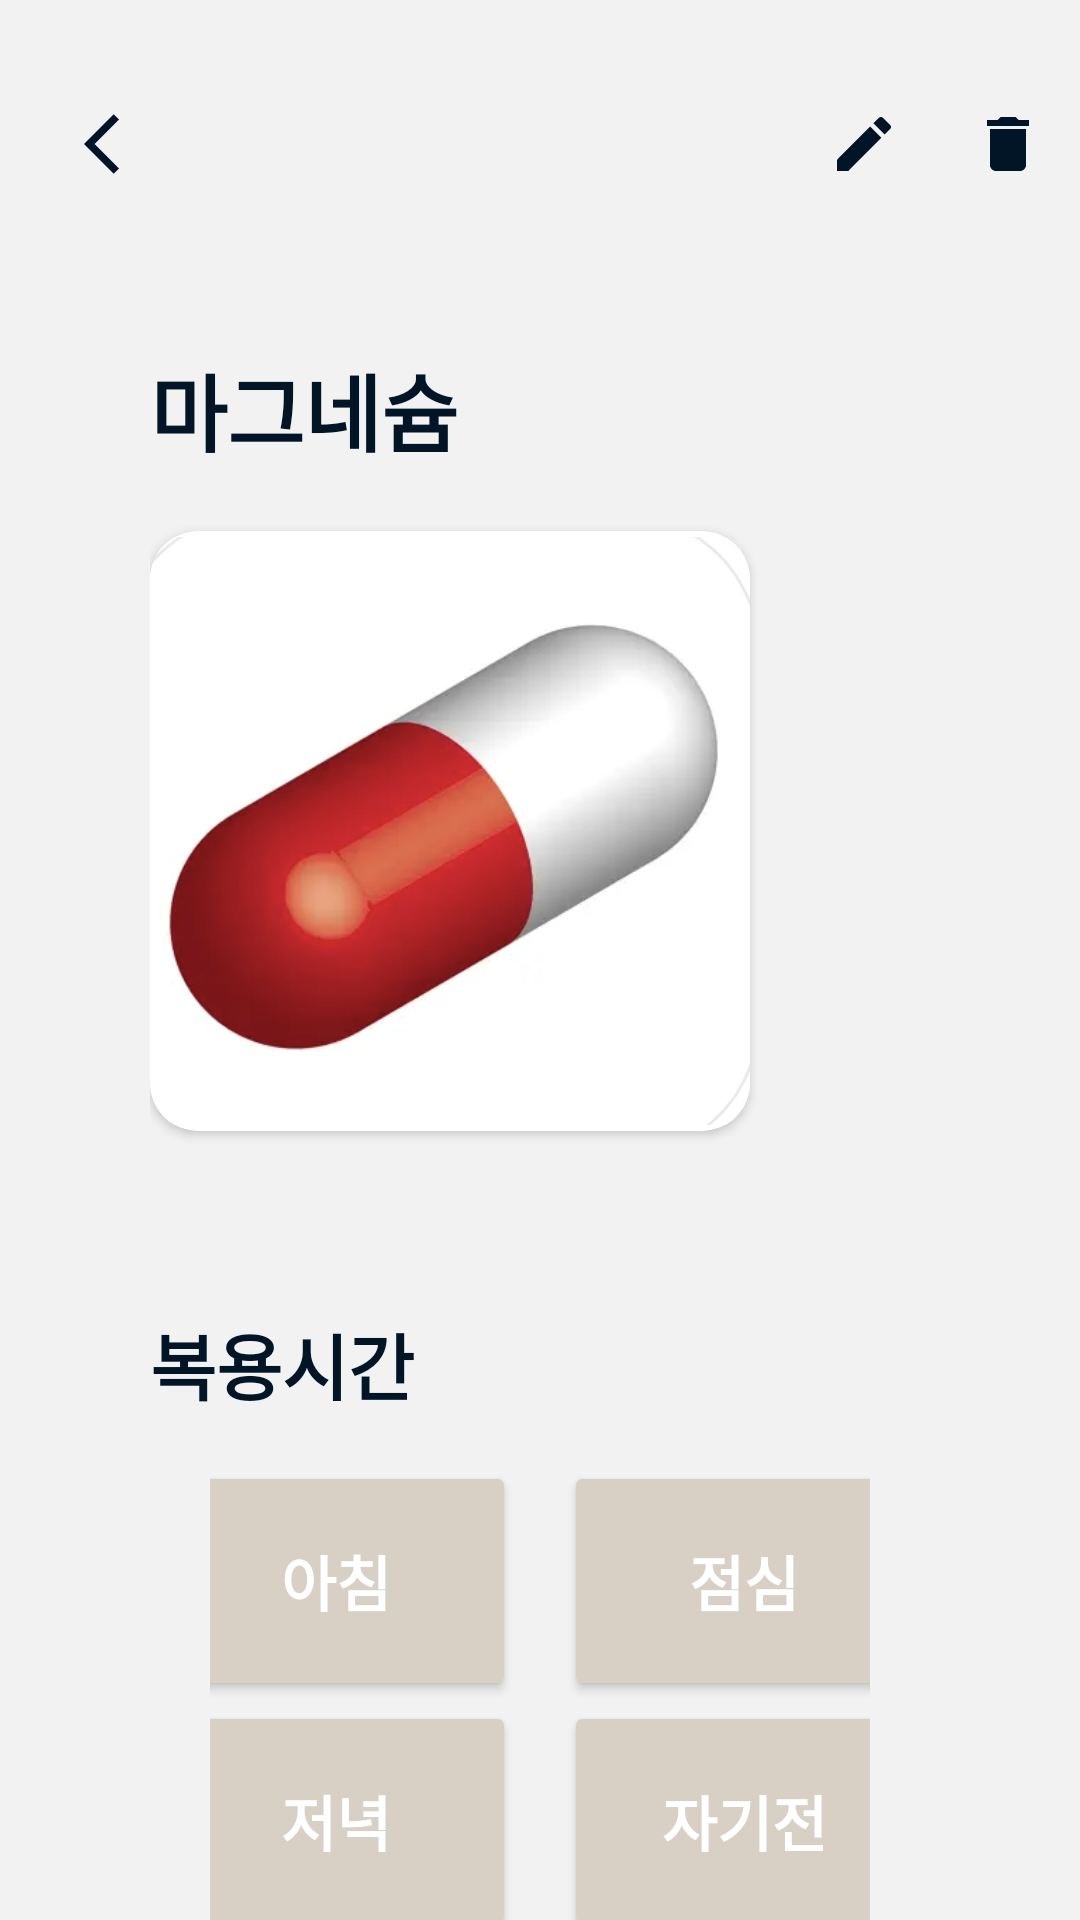

Point at icon controls on the screen. Image size 1080 x 1920, points as (x,y).
arrow back: (101,144)
delete: (1008,144)
edit: (864,144)
